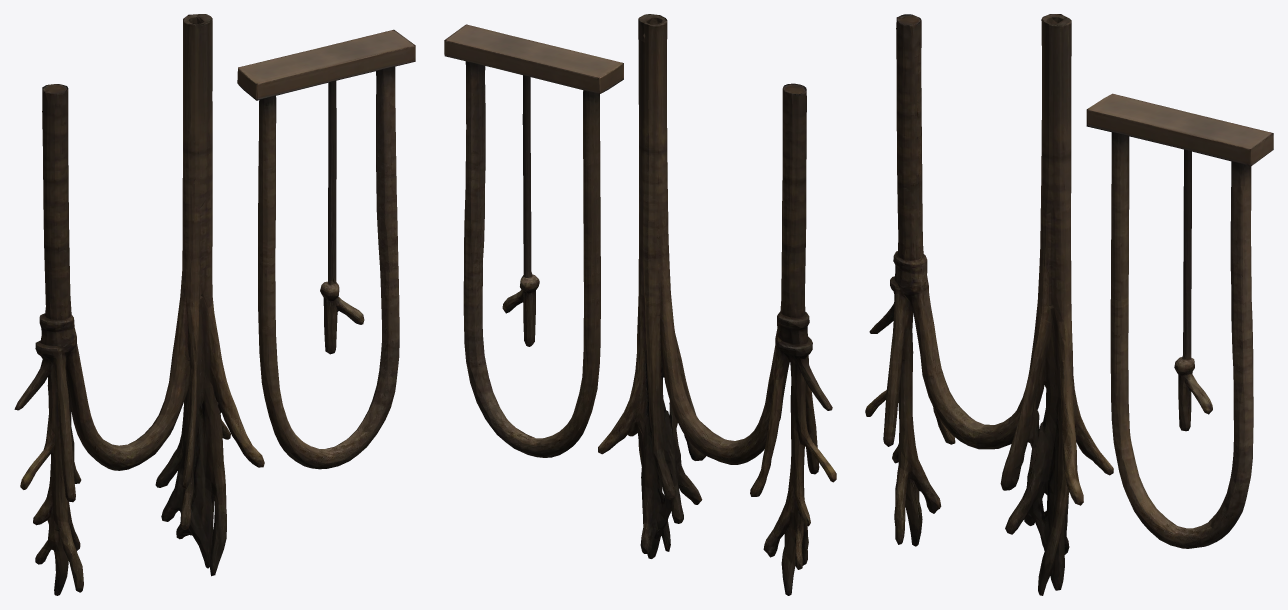
File: ceiling_filth_hanging.glb
3 views of the same model, side by side, from view 1: azimuth 30°, elevation 25°; view 2: azimuth 150°, elevation 25°; view 3: azimuth 330°, elevation 25° (orthographic). The views are drawn at different scales.
Parts seen in each view (by area): view 1: geometry_0; view 2: geometry_0; view 3: geometry_0.
Boxes of the visible parts, bbox=[...] form: geometry_0: bbox=[14, 14, 415, 595]; geometry_0: bbox=[444, 14, 836, 595]; geometry_0: bbox=[865, 14, 1273, 595].
Bounding box in the file's own units: 0.7369 × 1 × 0.122.
1 material, 1 textured.
